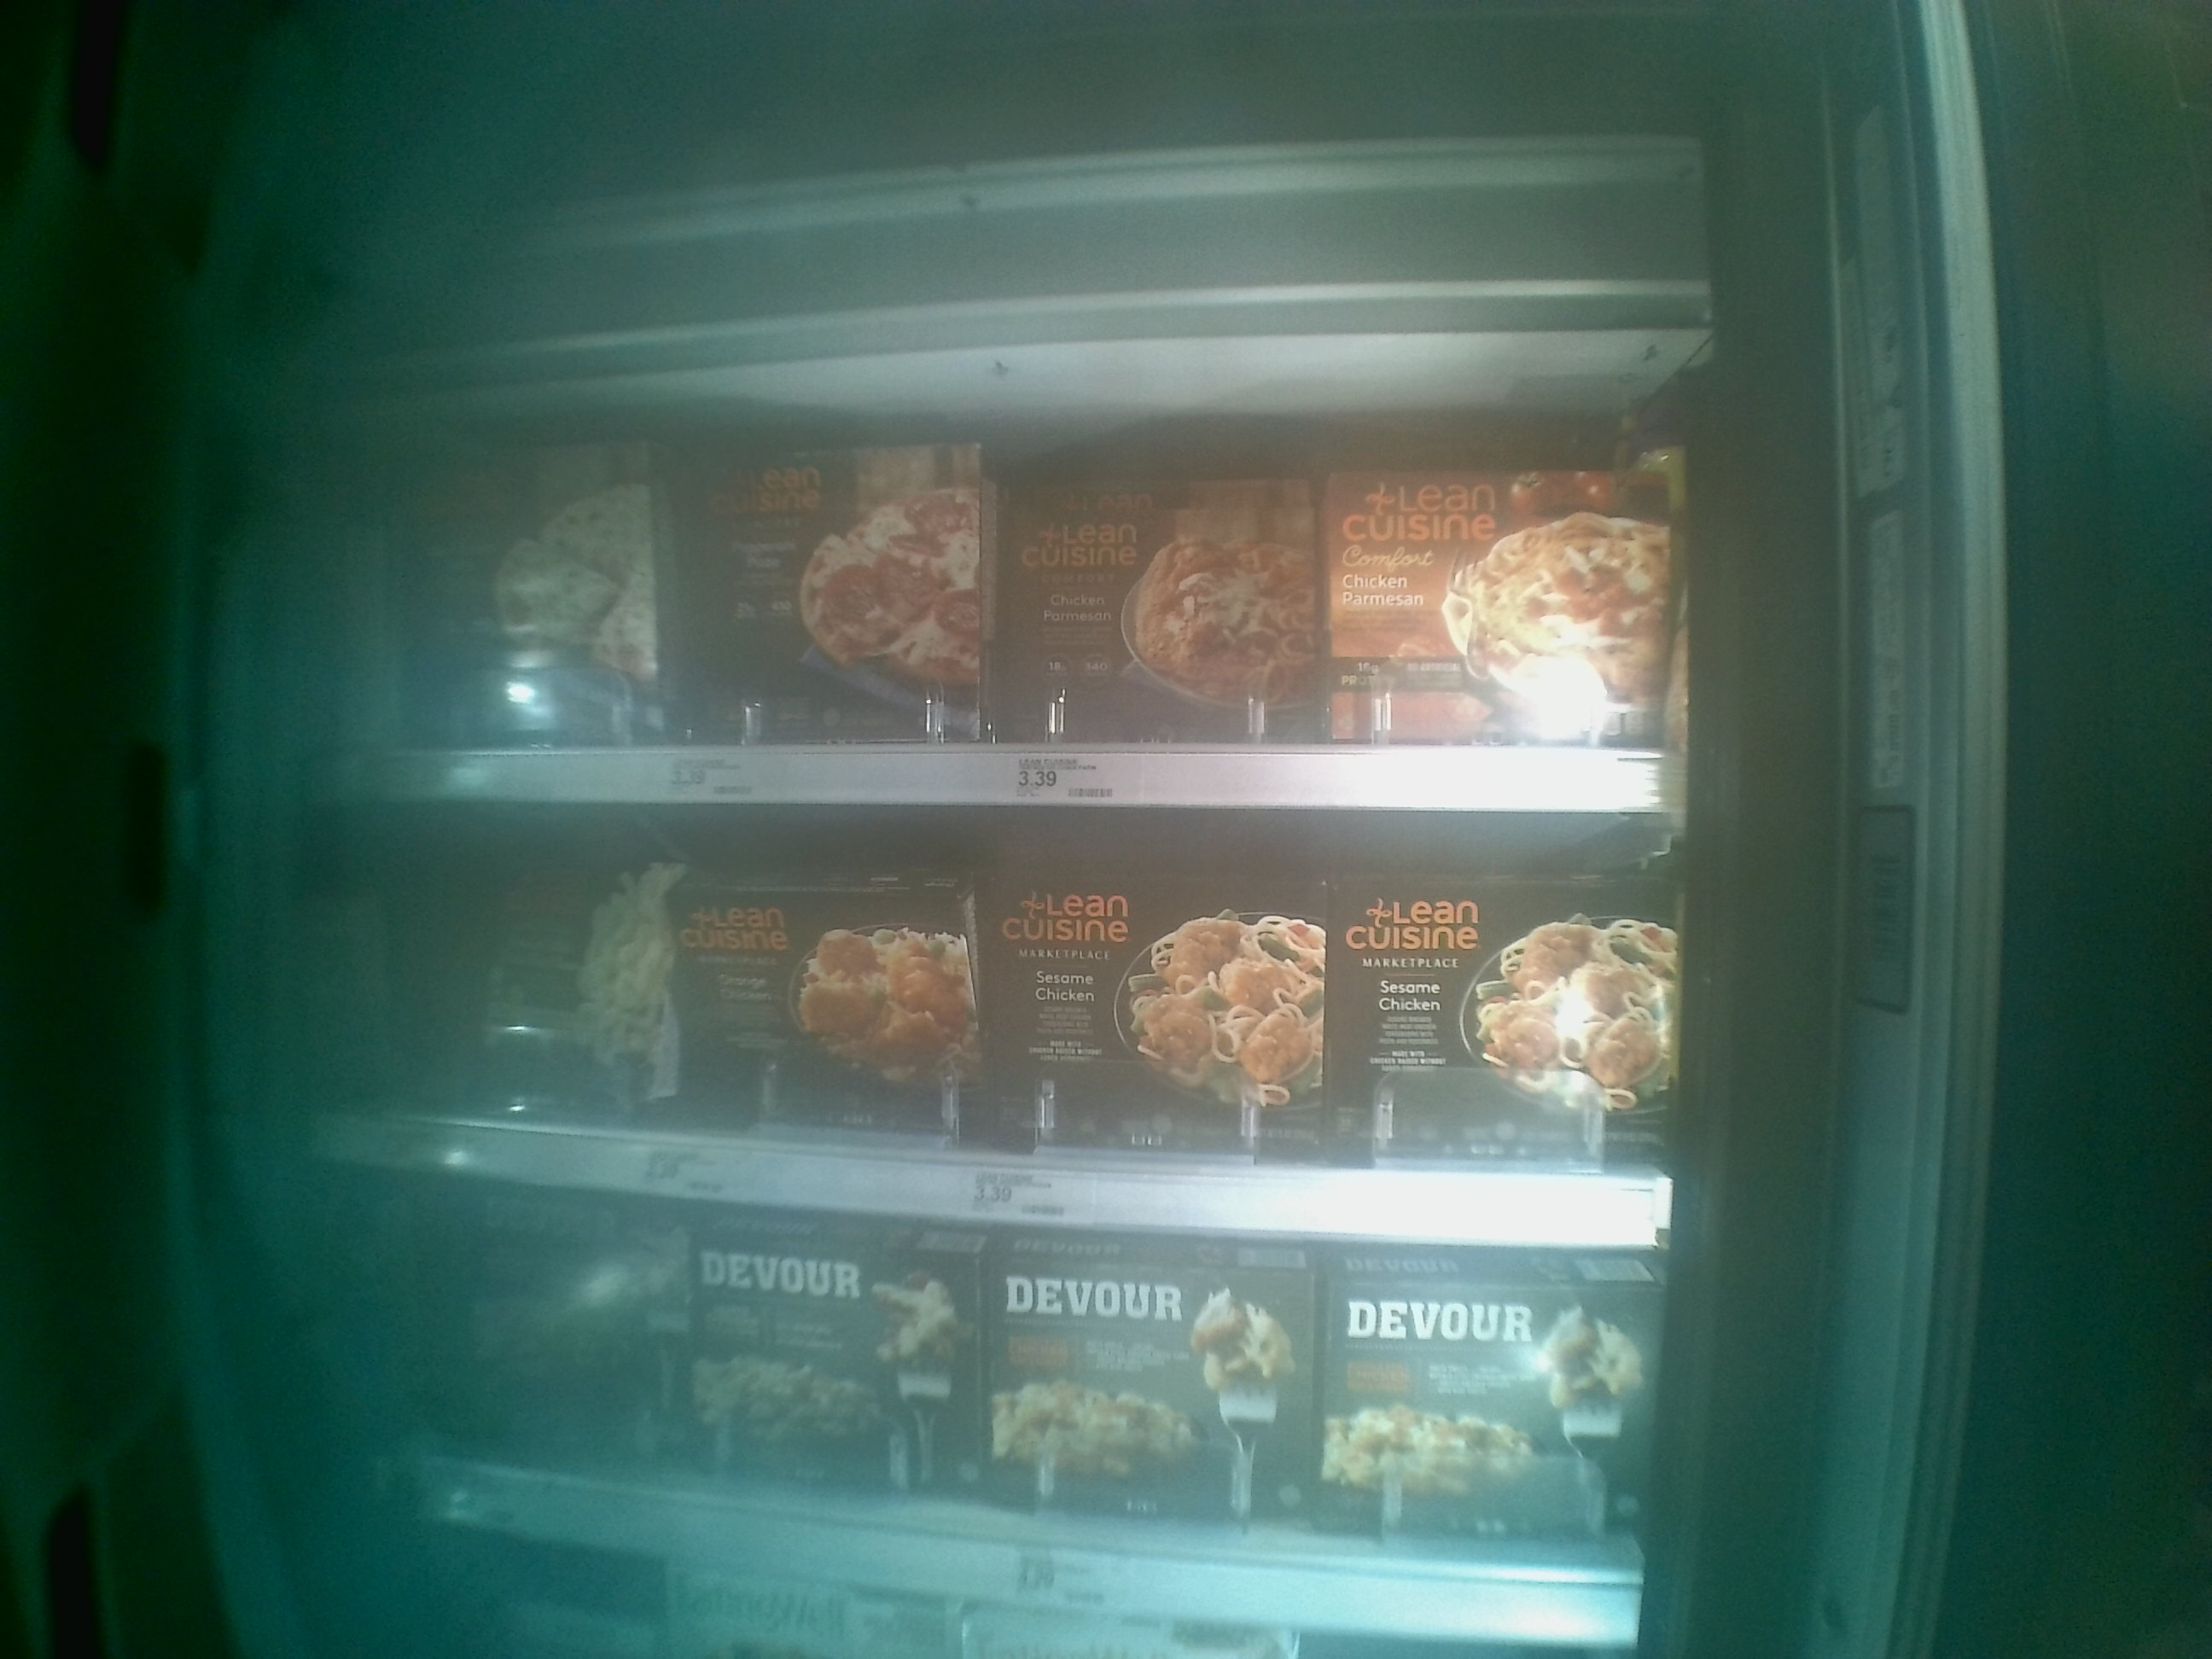shelf: (354, 796, 1672, 1248), (383, 368, 1672, 812)
